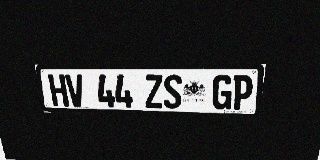4: (95, 74, 116, 107), (113, 75, 133, 108)
G: (212, 75, 233, 110)
H: (48, 74, 69, 107)
P: (231, 75, 254, 110)
S: (163, 75, 182, 109)
V: (65, 74, 86, 107)
Z: (144, 75, 163, 108)
